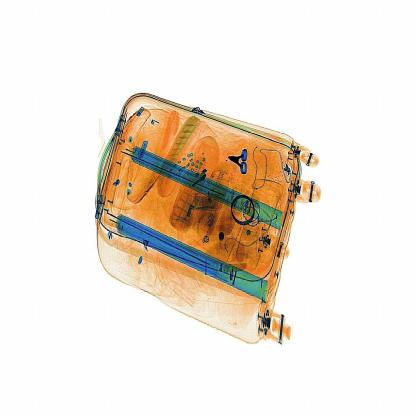gun: (223, 141, 254, 177)
